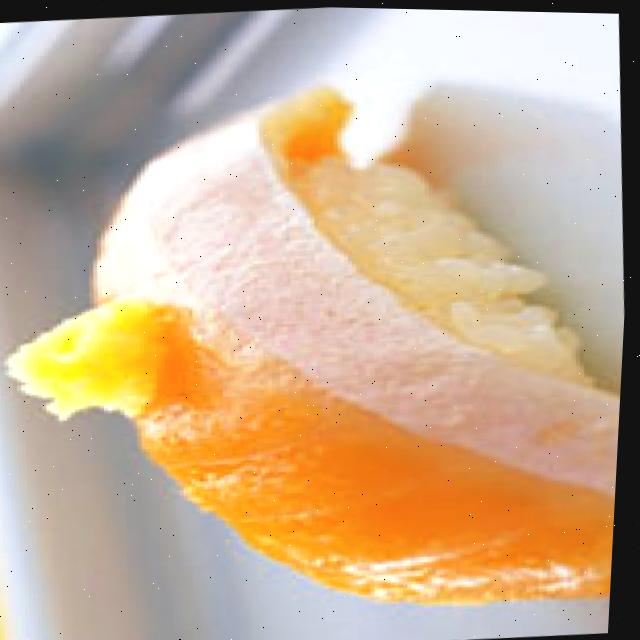寿司卷物: (0, 47, 638, 640)
